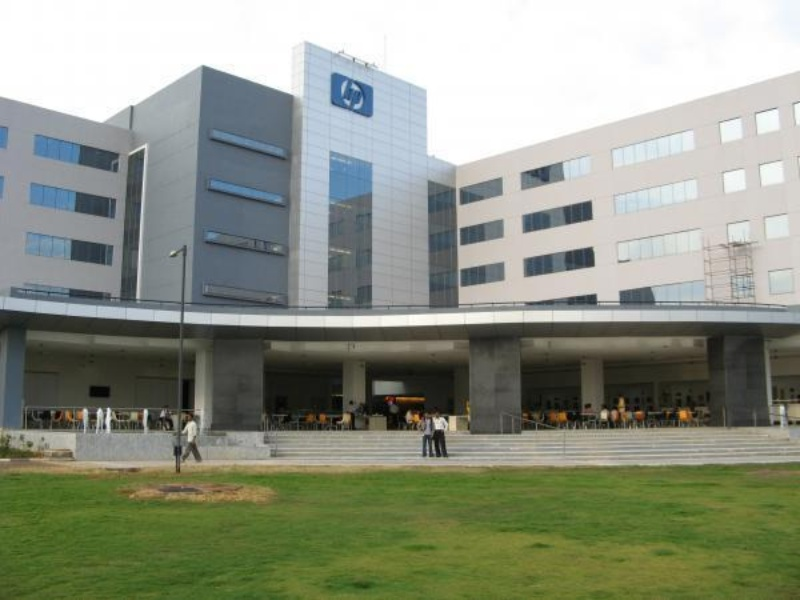hp: (340, 74, 364, 113)
